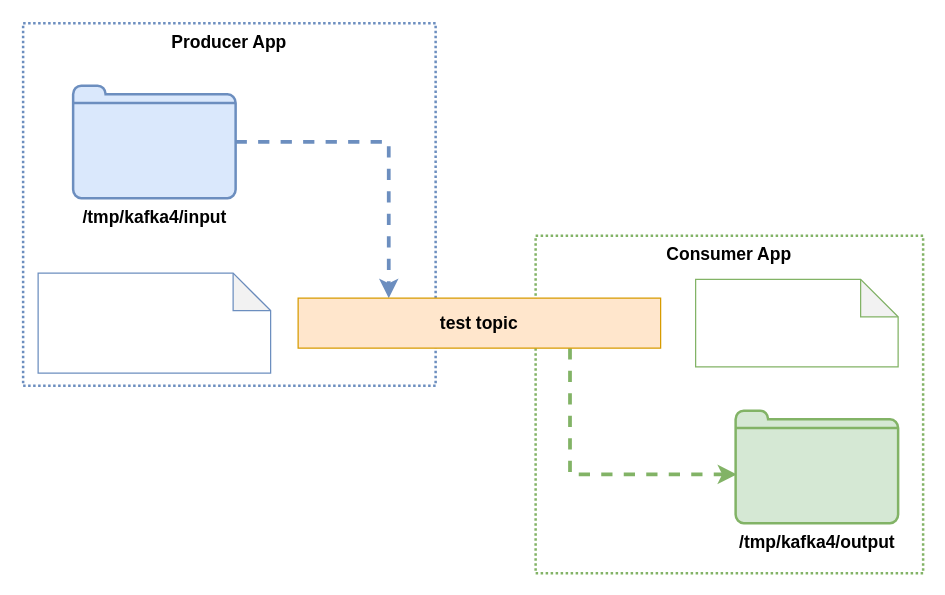
The diagram is 945 pixels wide and 595 high, and some of its shapes have lost their labels. Each missing label, with the box of its shape:
if file size <= 10 bytes - key: filename - value: content: (37, 272, 271, 373)
write file: - same name - reversed content: (694, 278, 898, 367)
